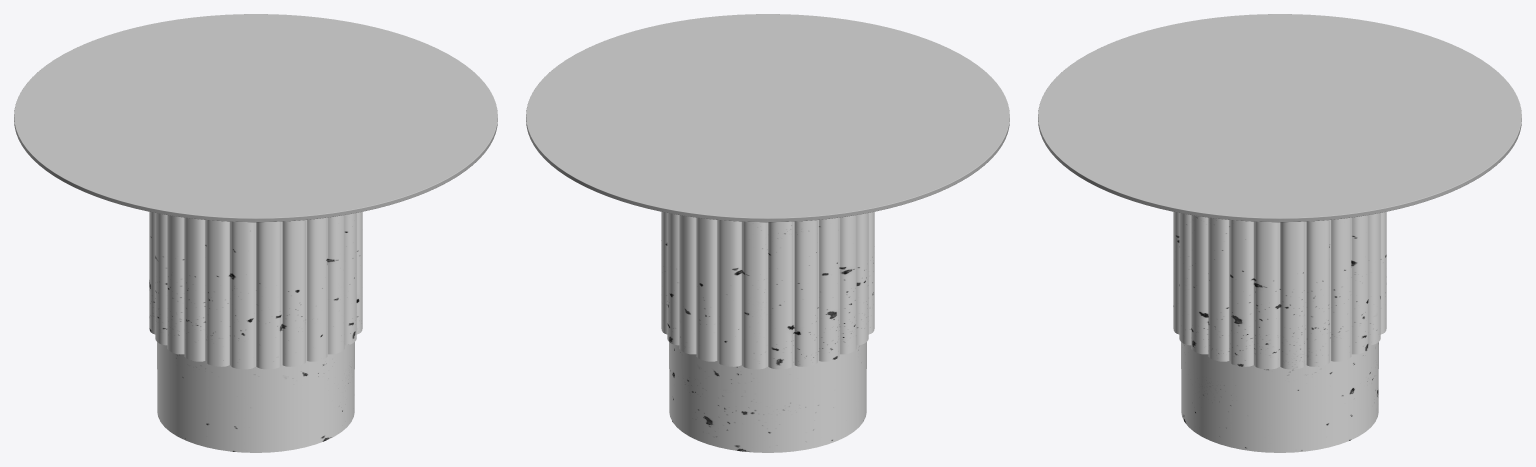
Rendered from Turu.fbx.
3 renders of one model, left to right at view 1: azimuth 30°, elevation 25°; view 2: azimuth 150°, elevation 25°; view 3: azimuth 270°, elevation 25°, orthographic.
Visible parts, largest first — view 1: Turu_002, Turu_001; view 2: Turu_002, Turu_001; view 3: Turu_002, Turu_001.
Part boxes in pixels (x1,y1,x2,y2): Turu_002: (14,14,497,222); Turu_001: (149,212,362,452); Turu_002: (526,14,1009,222); Turu_001: (661,212,874,452); Turu_002: (1038,14,1521,222); Turu_001: (1173,212,1386,452).
Size of the model in its own units: 110 by 74 by 110.
